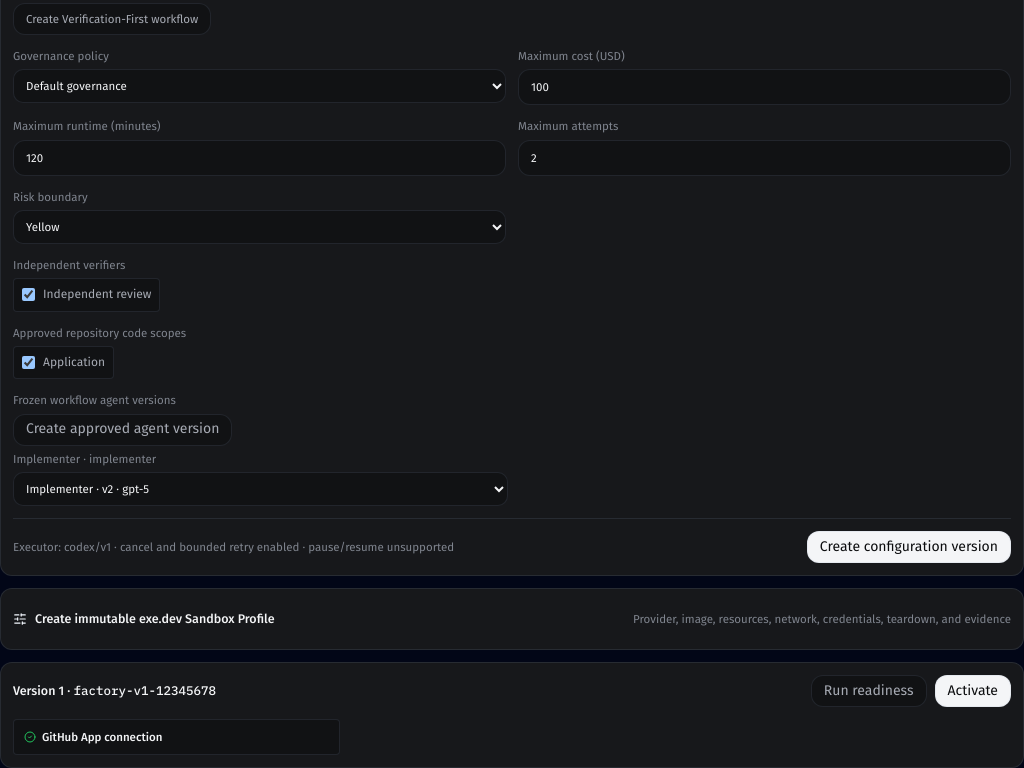
FactoryConfigurationPanel › allows activation only for a passing assessment of the latest version
(page scrolled)
Click the button "Activate" at x=973, y=691, box [934, 675, 1011, 707]
(page scrolled)
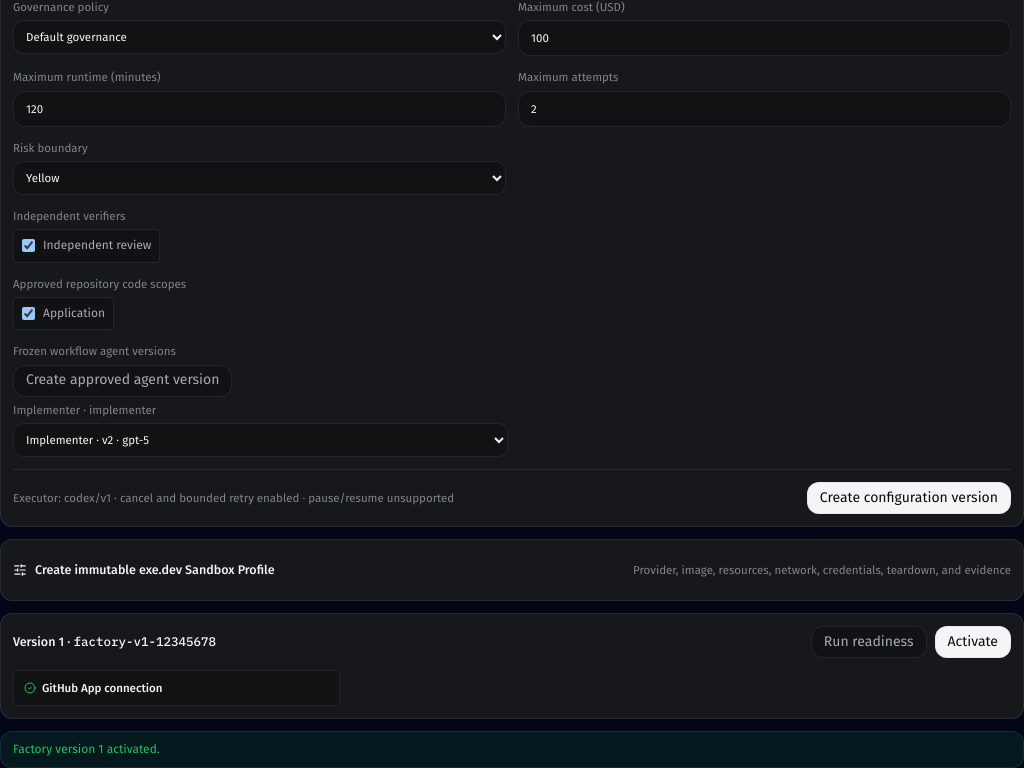
Now the message reads "Factory version 1 activated.", box [13, 742, 160, 756]
